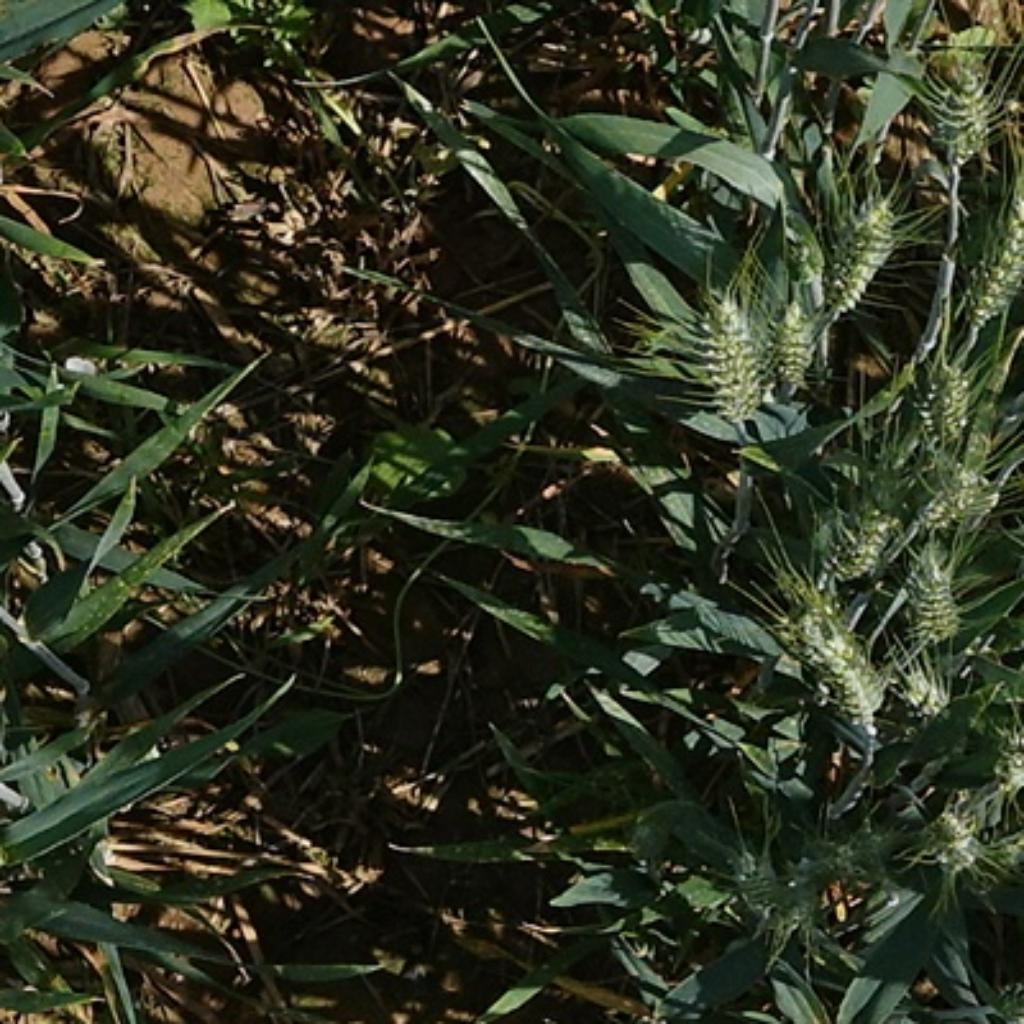0-0: (806, 436, 941, 580), (778, 578, 885, 742), (804, 192, 906, 325), (685, 294, 774, 437), (714, 847, 819, 957), (953, 199, 1024, 330), (925, 41, 1000, 163), (906, 448, 1003, 537), (901, 345, 983, 448), (791, 826, 879, 909), (896, 542, 967, 642), (913, 796, 993, 875), (888, 647, 965, 721), (773, 286, 819, 401)
